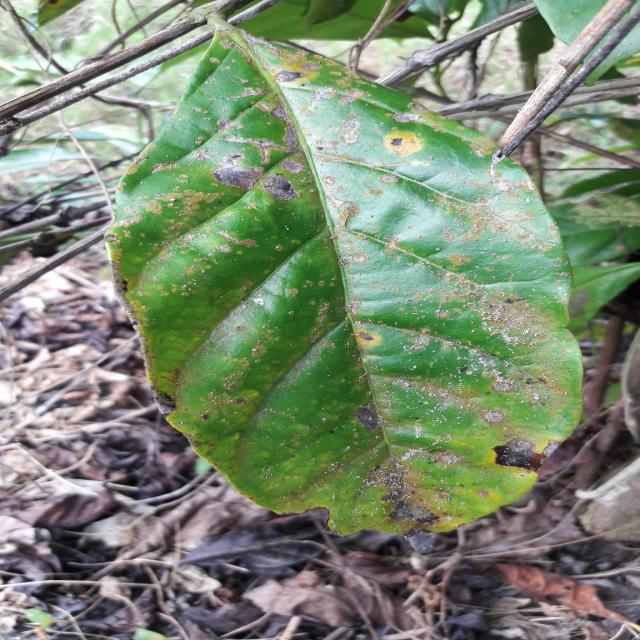Enfermedad-Roya: (108, 29, 584, 538)
